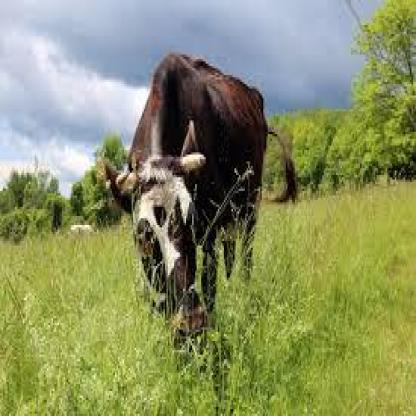cow: (105, 51, 297, 356)
